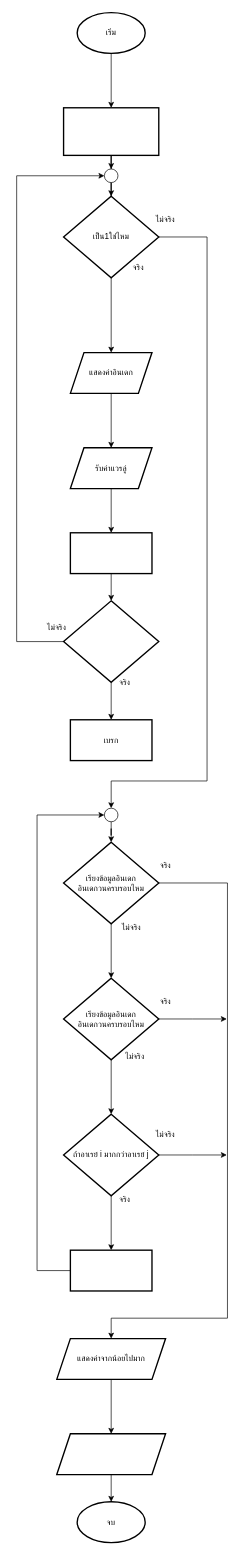
Some shapes in this 245 by 1554 pixel diagram are drawn without their labels. Each missing label, with the box of its shape:
temp = arr[ i ] ; arr[ i ] = arr[ j ] ; arr[ j ] = temp ;: (69, 1249, 152, 1291)
กำหนดตัวแปรจำนวนอาเรย์ อินเดก แวรลู่ เทมป: (63, 107, 159, 156)
ถ้าพิม-1: (63, 600, 159, 683)
เก็บค่าอินเดก: (69, 532, 152, 574)
แสดงค่าจากมากไปน้อย: (56, 1433, 166, 1475)
